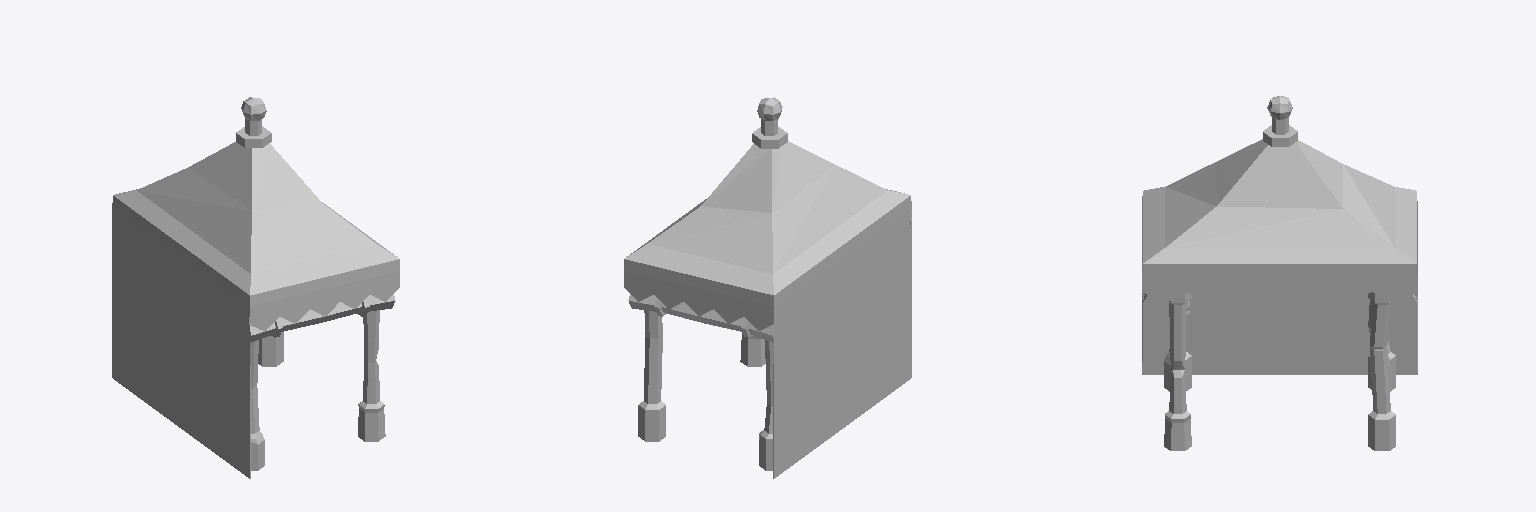
The model's file is tent01.obj.
3 views of the same model, side by side, from view 1: azimuth 30°, elevation 25°; view 2: azimuth 150°, elevation 25°; view 3: azimuth 270°, elevation 25° (orthographic).
Parts seen in each view (by area): view 1: tent01; view 2: tent01; view 3: tent01.
Boxes of the visible parts, <box> form: tent01: <box>112,97,399,478</box>; tent01: <box>624,97,911,478</box>; tent01: <box>1142,96,1417,450</box>.
Bounding box in the file's own units: 0.0267 × 0.0537 × 0.0424.